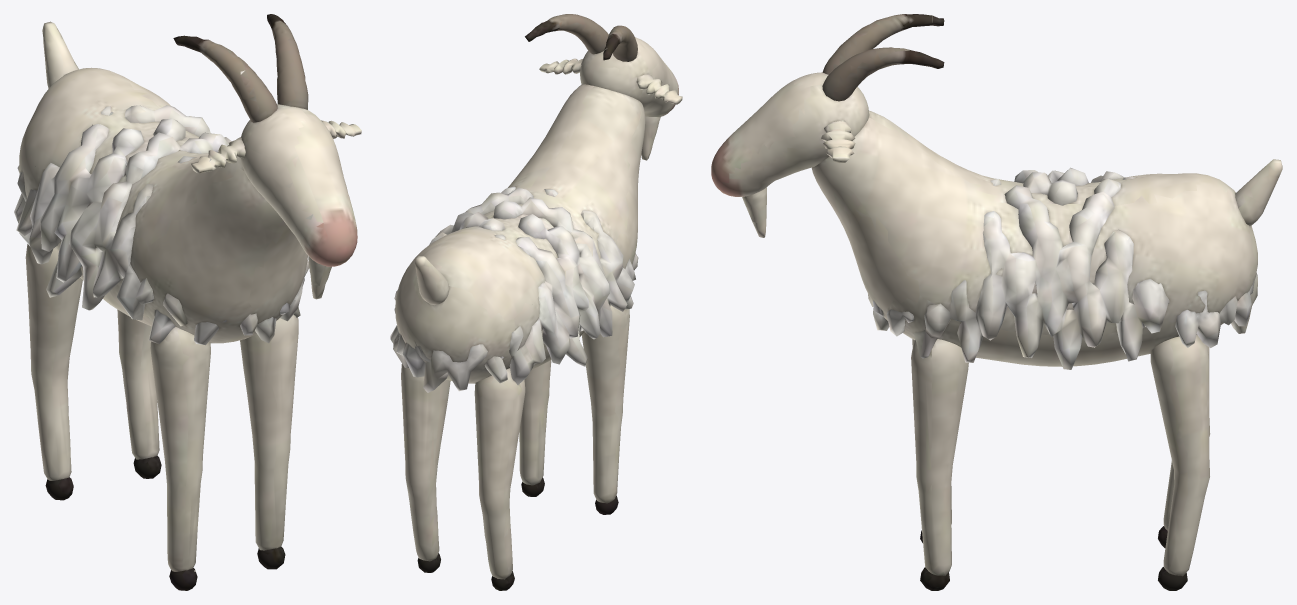
File: animal_cashmere_goat.glb
3 views of the same model, side by side, from view 1: azimuth 30°, elevation 25°; view 2: azimuth 150°, elevation 25°; view 3: azimuth 270°, elevation 25° (orthographic). The views are drawn at different scales.
Parts seen in each view (by area): view 1: animal_cashmere_goat, head, leg0, leg1, leg2, leg3, tail; view 2: animal_cashmere_goat, head, leg2, leg3, leg0, leg1, tail; view 3: animal_cashmere_goat, head, leg3, leg1, tail.
Boxes of the visible parts, <box> form: animal_cashmere_goat: <box>14,67,309,345</box>; head: <box>173,14,361,299</box>; leg0: <box>150,326,210,590</box>; leg1: <box>240,314,298,569</box>; leg2: <box>25,244,82,500</box>; leg3: <box>117,309,161,478</box>; tail: <box>42,21,78,88</box>; animal_cashmere_goat: <box>390,84,645,392</box>; head: <box>525,14,682,160</box>; leg2: <box>474,368,525,590</box>; leg3: <box>401,364,450,572</box>; leg0: <box>581,305,629,514</box>; leg1: <box>519,360,551,496</box>; tail: <box>414,256,449,305</box>; animal_cashmere_goat: <box>811,110,1257,369</box>; head: <box>711,14,944,237</box>; leg3: <box>1150,335,1209,590</box>; leg1: <box>911,339,968,590</box>; tail: <box>1235,159,1282,225</box>.
Size of the model in its own units: 0.1976 by 0.5116 by 0.4929.
1 material, 1 textured.
